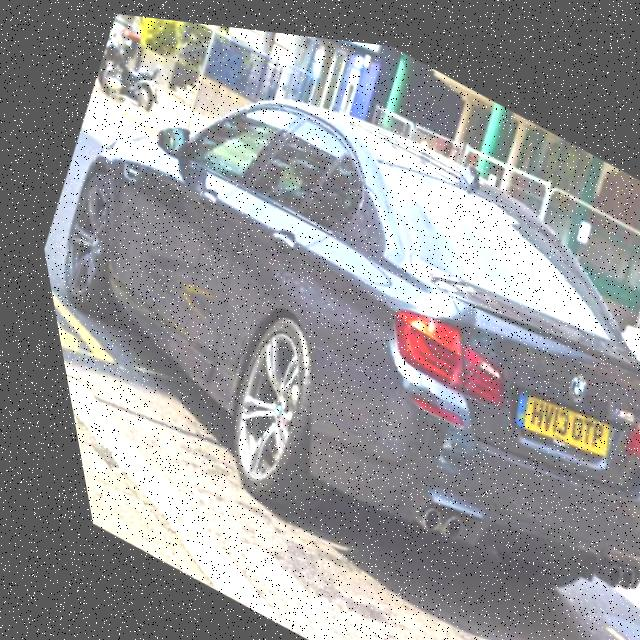license_plate: (491, 366, 608, 460)
